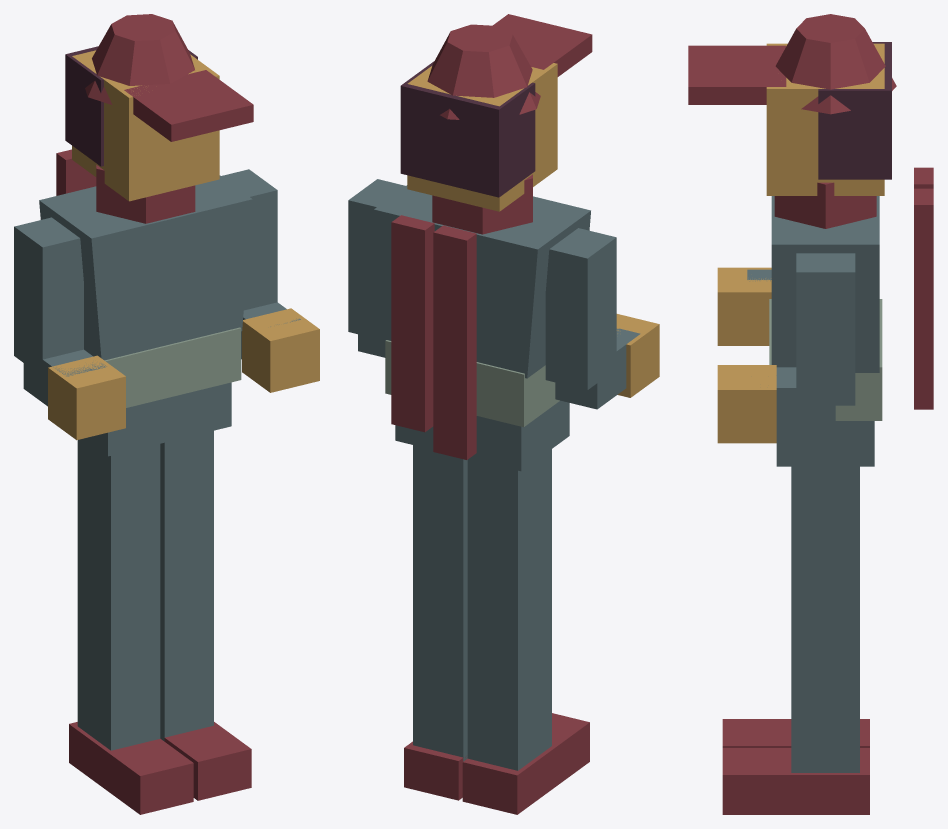
Rendered from walker_body.glb.
The picture shows the model from 3 angles, left to right: view 1: azimuth 30°, elevation 25°; view 2: azimuth 150°, elevation 25°; view 3: azimuth 270°, elevation 25°; orthographic projection. The views are drawn at different scales.
Visible parts, largest first — view 1: Body; view 2: Body; view 3: Body.
Part boxes in pixels (x1,y1,x2,y2): Body: (14,14,319,814); Body: (348,14,659,814); Body: (688,14,933,814).
Bounding box in the file's own units: 0.59 × 1.7 × 0.5.
